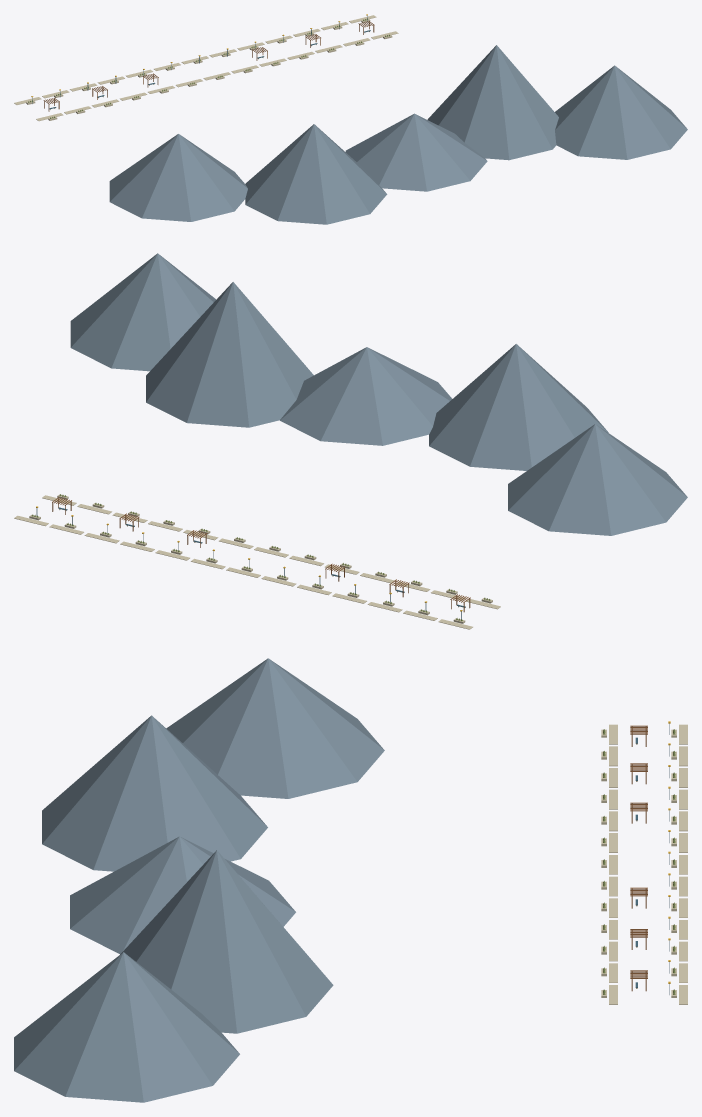
The model's file is coast-renewal.glb.
The picture shows the model from 3 angles, top to bottom: view 1: azimuth 30°, elevation 25°; view 2: azimuth 150°, elevation 25°; view 3: azimuth 270°, elevation 25°; orthographic projection. The views are drawn at different scales.
Visible parts, largest first — view 1: coast-renewal; view 2: coast-renewal; view 3: coast-renewal.
Part boxes in pixels (left/top/right/bottom): coast-renewal: left=14, top=14, right=687, bottom=224; coast-renewal: left=14, top=253, right=687, bottom=629; coast-renewal: left=14, top=658, right=687, bottom=1102.
Size of the model in its own units: 203 by 32.02 by 144.
